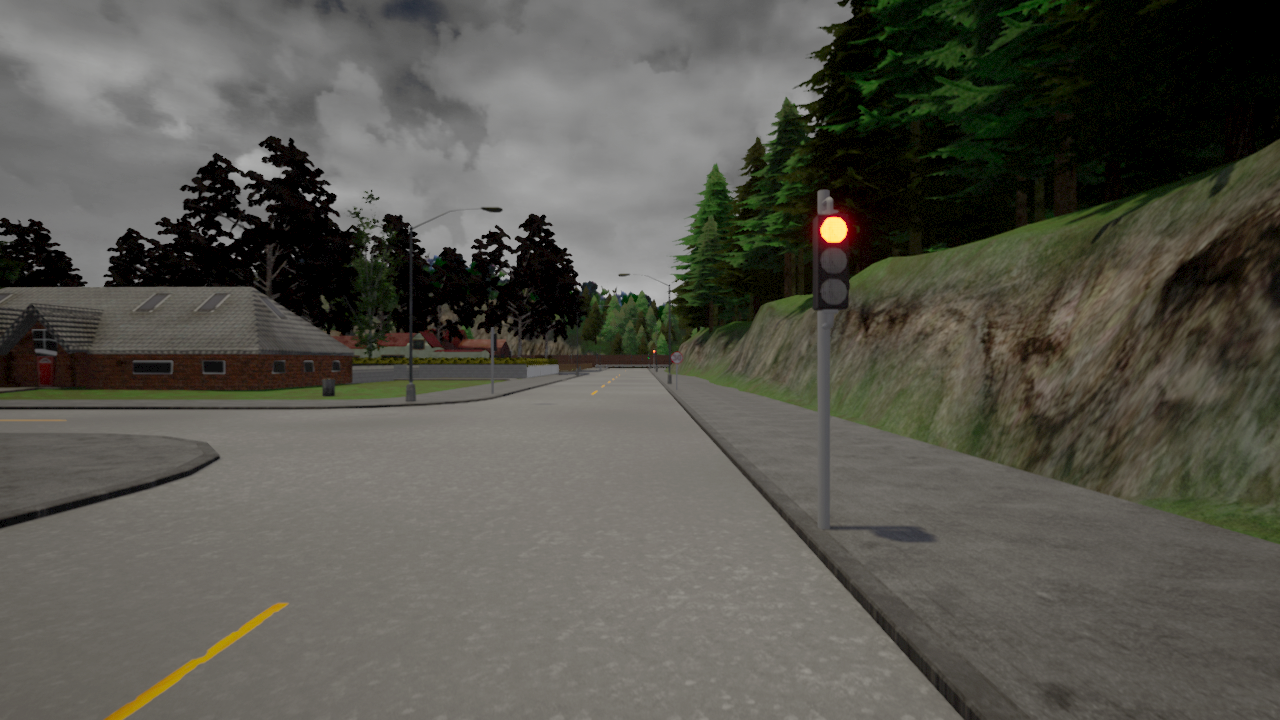red: (811, 209, 850, 310)
